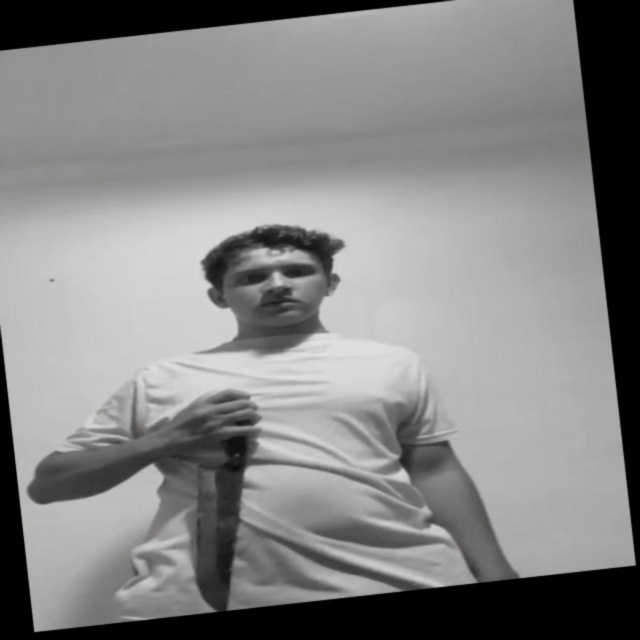Sharp-Object: (180, 465, 258, 613)
